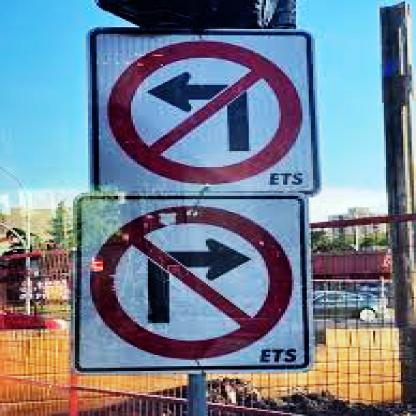No left turn: (81, 26, 313, 197)
